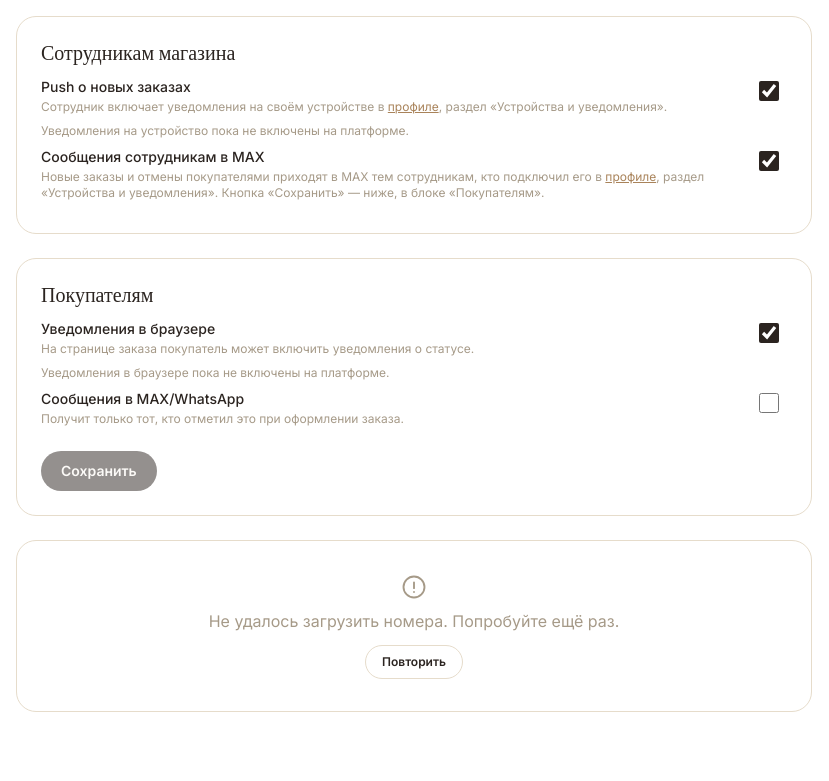
Test: ShopNotificationsPage › shows the server 409 text when messages were refused
Click the switch labelled "Сообщения в MAX/WhatsApp".
click(769, 403)  # box [751,393,787,413]
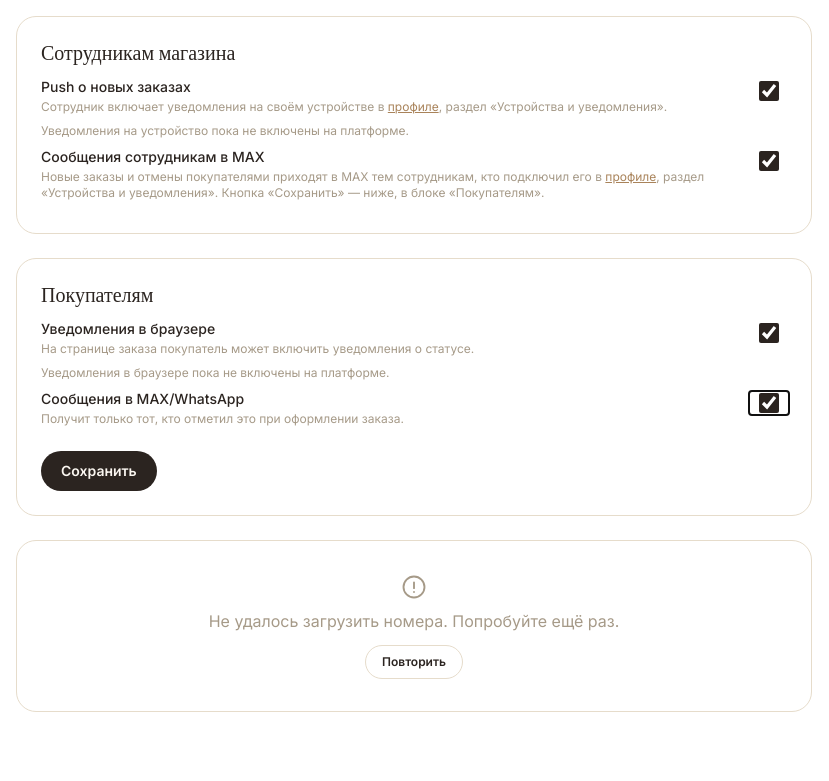
Click the button "Сохранить".
click(99, 471)  # box [41,451,157,491]
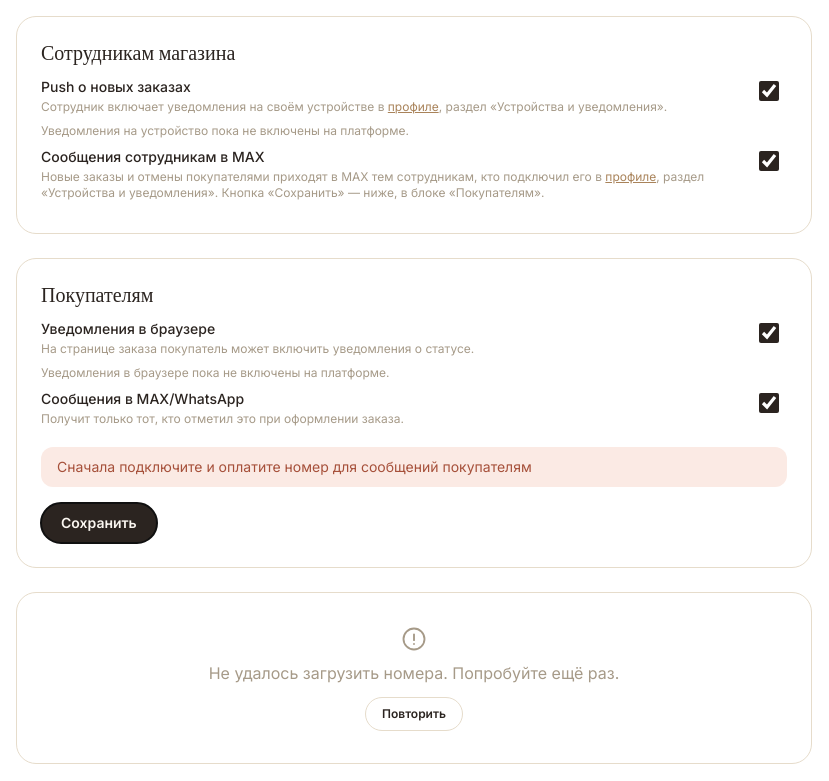
Expected: the text "Сначала подключите и оплатите номер для сообщений покупателям" is shown, [41,447,787,487]
